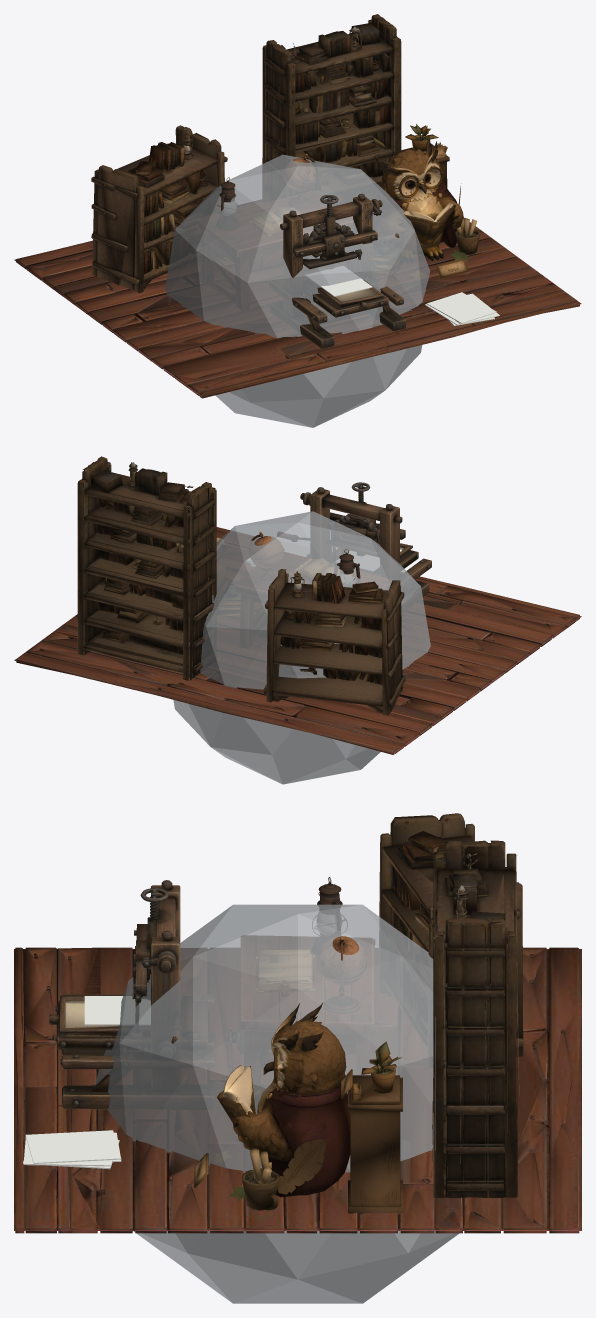
The picture shows the model from 3 angles, top to bottom: view 1: azimuth 30°, elevation 25°; view 2: azimuth 150°, elevation 25°; view 3: azimuth 270°, elevation 25°; orthographic projection. The views are drawn at different scales.
Parts seen in each view (by area): view 1: Scene04_Smoke_01, Scene04_Smoke_02, pod, tripo_part_80, tripo_part_27, Body, Sto, tripo_part_0, head, Main, Scene04_PaperPile_04, Scene04_Paper_OnMain (+4 smaller); view 2: pod, tripo_part_80, Scene04_Smoke_01, Scene04_Smoke_02, tripo_part_27, Body, Sto, krug, knjiga, Main, tripo_part_13; view 3: pod, Scene04_Smoke_01, Scene04_Smoke_02, tripo_part_80, Body, tripo_part_27, Sto, tripo_part_0, tripo_part_11.001, head, Main, Scene04_PaperPile_04 (+8 smaller).
Boxes of the visible parts, left/top/right/bottom form: Scene04_Smoke_01: left=165, top=155, right=429, bottom=427; Scene04_Smoke_02: left=165, top=155, right=429, bottom=427; pod: left=14, top=200, right=581, bottom=398; tripo_part_80: left=262, top=14, right=401, bottom=205; tripo_part_27: left=91, top=125, right=227, bottom=292; Body: left=269, top=193, right=405, bottom=348; Sto: left=197, top=192, right=352, bottom=311; tripo_part_0: left=373, top=179, right=463, bottom=262; head: left=374, top=135, right=443, bottom=200; Main: left=303, top=262, right=388, bottom=317; Scene04_PaperPile_04: left=426, top=292, right=496, bottom=323; Scene04_Paper_OnMain: left=306, top=266, right=372, bottom=296; pod: left=14, top=527, right=581, bottom=754; tripo_part_80: left=77, top=456, right=216, bottom=680; Scene04_Smoke_01: left=173, top=511, right=430, bottom=783; Scene04_Smoke_02: left=174, top=512, right=430, bottom=783; tripo_part_27: left=263, top=569, right=405, bottom=715; Body: left=300, top=487, right=431, bottom=612; Sto: left=235, top=552, right=391, bottom=648; krug: left=252, top=536, right=283, bottom=567; knjiga: left=290, top=559, right=354, bottom=582; Main: left=337, top=543, right=418, bottom=575; tripo_part_13: left=334, top=549, right=360, bottom=586; pod: left=14, top=947, right=581, bottom=1233; Scene04_Smoke_01: left=95, top=905, right=458, bottom=1303; Scene04_Smoke_02: left=95, top=905, right=457, bottom=1302; tripo_part_80: left=431, top=840, right=519, bottom=1197; Body: left=60, top=880, right=214, bottom=1109; tripo_part_27: left=379, top=813, right=523, bottom=1067; Sto: left=226, top=936, right=374, bottom=1113; tripo_part_0: left=233, top=1074, right=350, bottom=1197; tripo_part_11.001: left=348, top=1075, right=402, bottom=1214; head: left=263, top=1002, right=346, bottom=1094; Main: left=49, top=995, right=207, bottom=1053; Scene04_PaperPile_04: left=25, top=1130, right=121, bottom=1163.
Size of the model in its own units: 3.18 by 2.58 by 2.71.
Materials: 102 (100 with a texture image).
